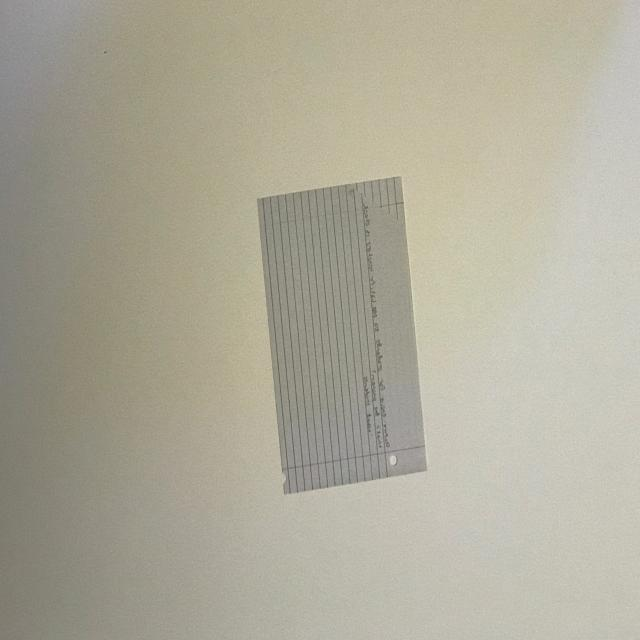paper: (0, 3, 640, 637)
